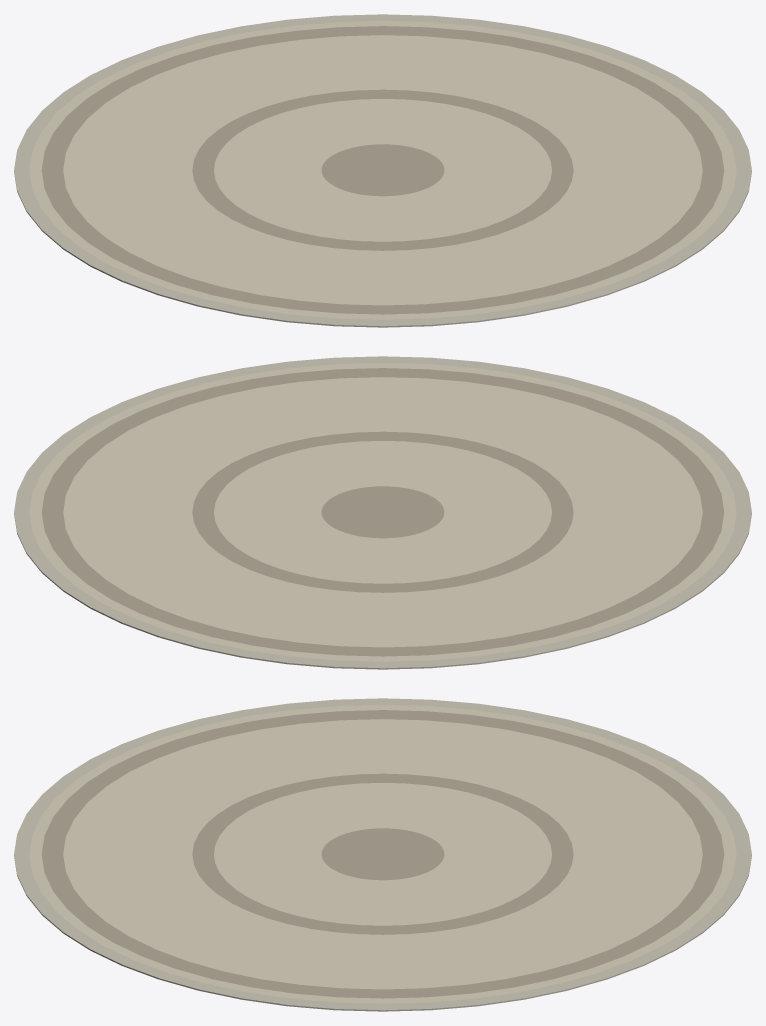
File: plaza_round.glb
3 views of the same model, one above another, from view 1: azimuth 30°, elevation 25°; view 2: azimuth 150°, elevation 25°; view 3: azimuth 270°, elevation 25° (orthographic).
Visible parts, largest first — view 1: plaza_round; view 2: plaza_round; view 3: plaza_round.
Part boxes in pixels (<box>): plaza_round: <box>14,14,751,327</box>; plaza_round: <box>14,356,751,669</box>; plaza_round: <box>14,698,751,1011</box>.
Size of the model in its own units: 24 by 0.05 by 24.
